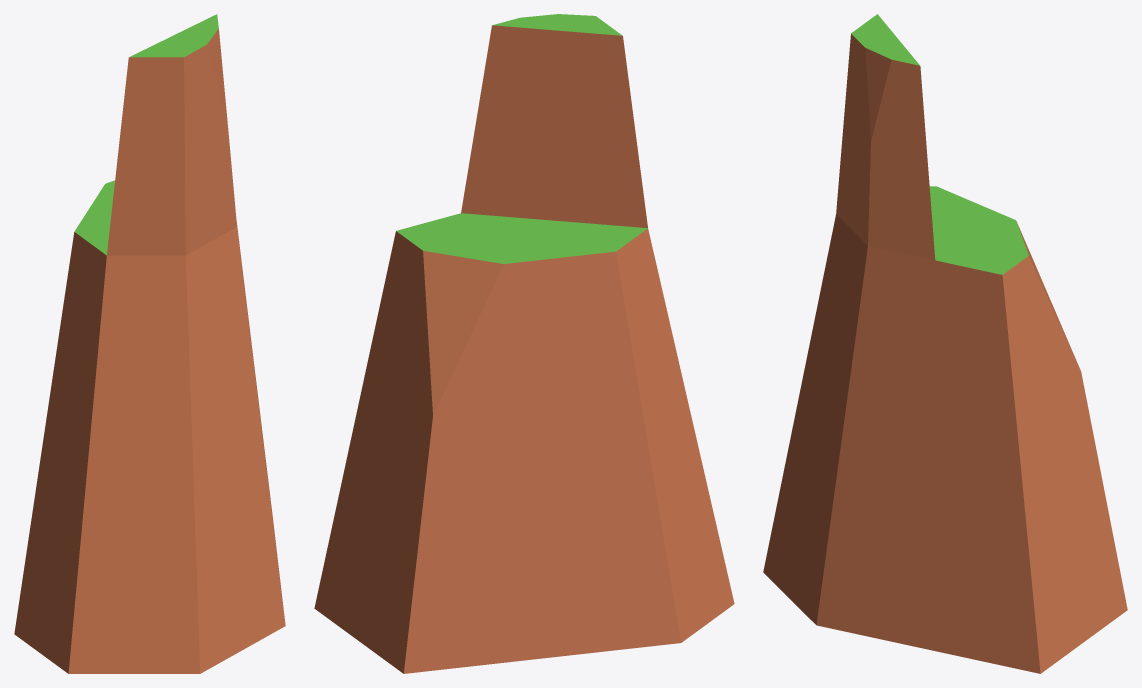
File: rock_tallD.glb
3 renders of one model, left to right at view 1: azimuth 30°, elevation 25°; view 2: azimuth 150°, elevation 25°; view 3: azimuth 270°, elevation 25°, orthographic. The views are drawn at different scales.
Parts seen in each view (by area): view 1: rock_tallD; view 2: rock_tallD; view 3: rock_tallD.
Boxes of the visible parts, left/top/right/bottom form: rock_tallD: left=14, top=14, right=285, bottom=673; rock_tallD: left=314, top=14, right=734, bottom=673; rock_tallD: left=763, top=14, right=1127, bottom=673.
Size of the model in its own units: 0.4428 by 0.7721 by 0.4615.
